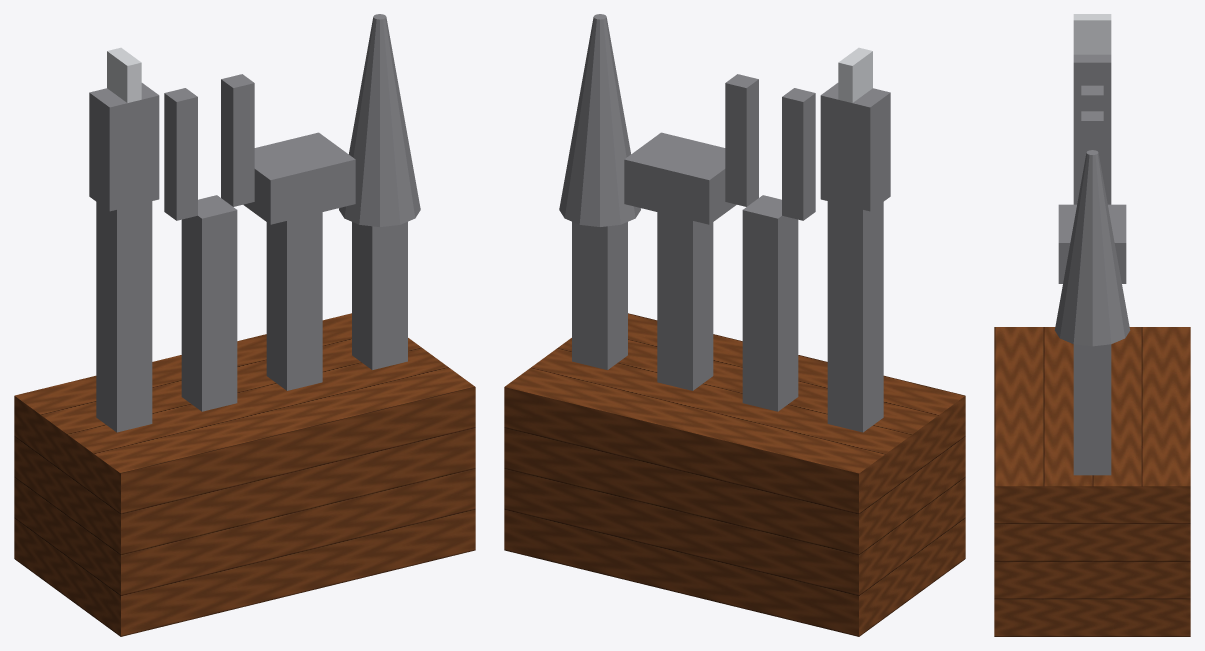
Rendered from hardy-tools-in-a-block-0-5-m.glb.
3 renders of one model, left to right at view 1: azimuth 30°, elevation 25°; view 2: azimuth 150°, elevation 25°; view 3: azimuth 270°, elevation 25°, orthographic. The views are drawn at different scales.
Visible parts, largest first — view 1: blacksmith-forge-and-armoury-hardy-tool-set; view 2: blacksmith-forge-and-armoury-hardy-tool-set; view 3: blacksmith-forge-and-armoury-hardy-tool-set.
Part boxes in pixels (x1,y1,x2,y2): blacksmith-forge-and-armoury-hardy-tool-set: (14,14,475,636); blacksmith-forge-and-armoury-hardy-tool-set: (504,14,965,636); blacksmith-forge-and-armoury-hardy-tool-set: (994,14,1190,636).
Bounding box in the file's own units: 0.5 × 0.71 × 0.26.
3 materials, 1 textured.
